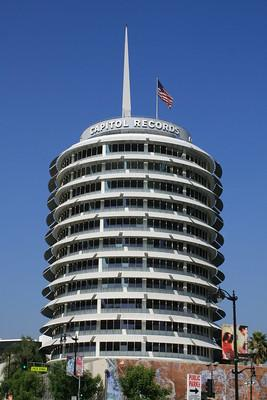building: (36, 111, 230, 366)
